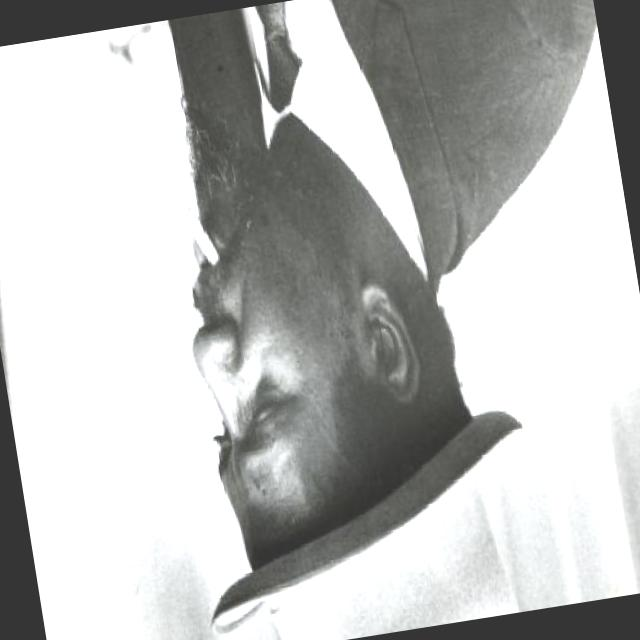smoke: (157, 146, 224, 284)
